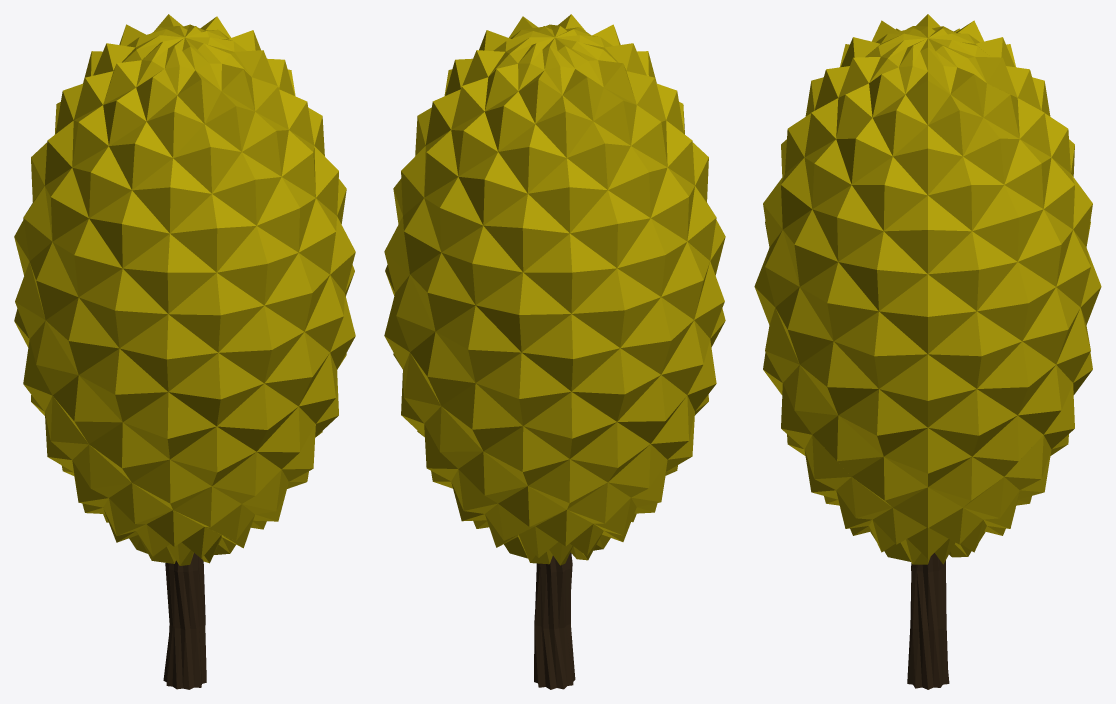
The model's file is TallSkinnyTree_Yellow.fbx.
The picture shows the model from 3 angles, left to right: view 1: azimuth 30°, elevation 25°; view 2: azimuth 150°, elevation 25°; view 3: azimuth 270°, elevation 25°; orthographic projection.
Visible parts, largest first — view 1: pSphere2, pCylinder2; view 2: pSphere2, pCylinder2; view 3: pSphere2, pCylinder2.
Boxes of the visible parts, x1,y1,x2,y2 form: pSphere2: (14, 14, 355, 565); pCylinder2: (163, 553, 206, 689); pSphere2: (384, 14, 725, 565); pCylinder2: (534, 552, 575, 689); pSphere2: (754, 14, 1101, 564); pCylinder2: (907, 553, 949, 689).
Size of the model in its own units: 11.59 by 24.03 by 11.73.
